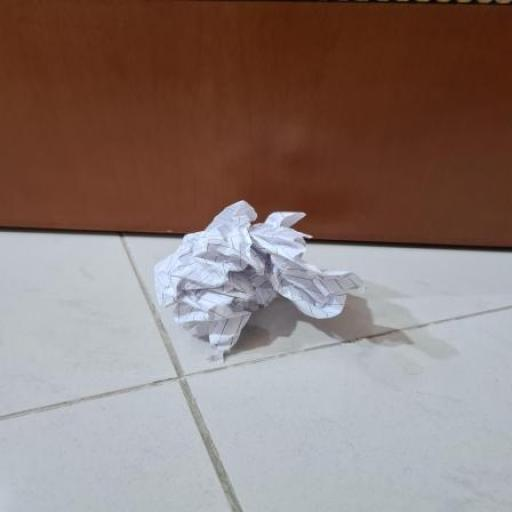paper: (160, 204, 344, 353)
